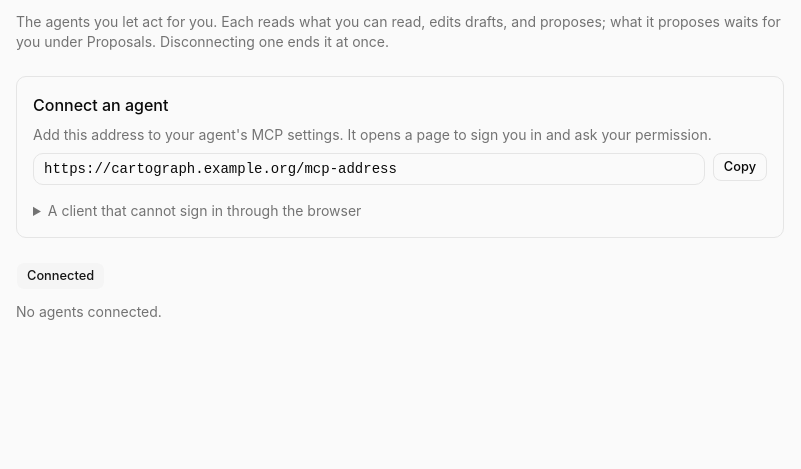
Test: agents › show a pasted token once
Click the heading "A client that cannot sign in through the browser" at [205, 210], box [48,202,361,219]
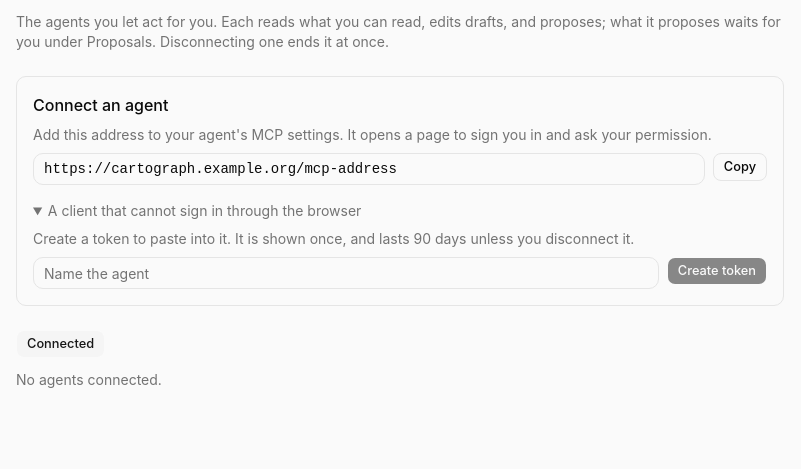
Type "A script" into the field labelled "Name the agent" at [346, 273], box [33,257,659,289]
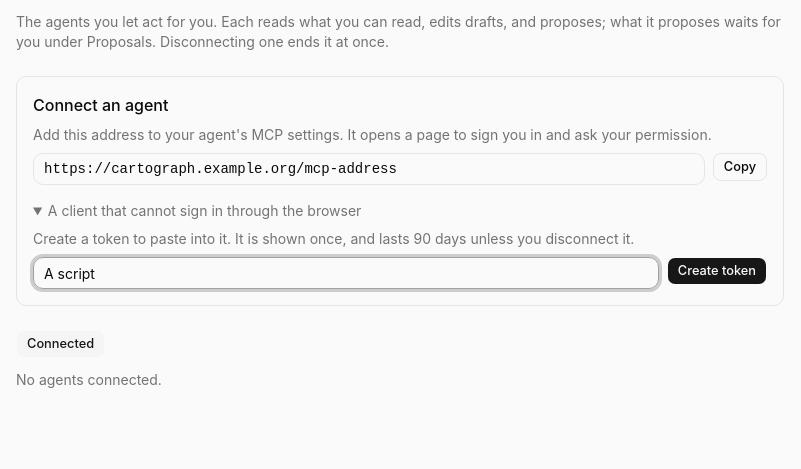
Click the button "Create token" at [717, 271], box [667,257,767,285]
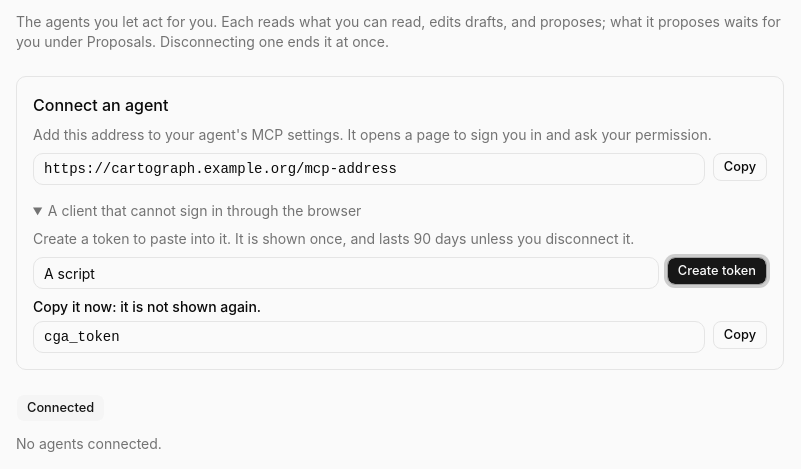
Now the field showing "cga_token" below "Copy it now: it is not shown again." is shown, box [33,321,705,353]
